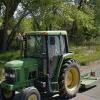Tractor: (6, 26, 86, 100)
